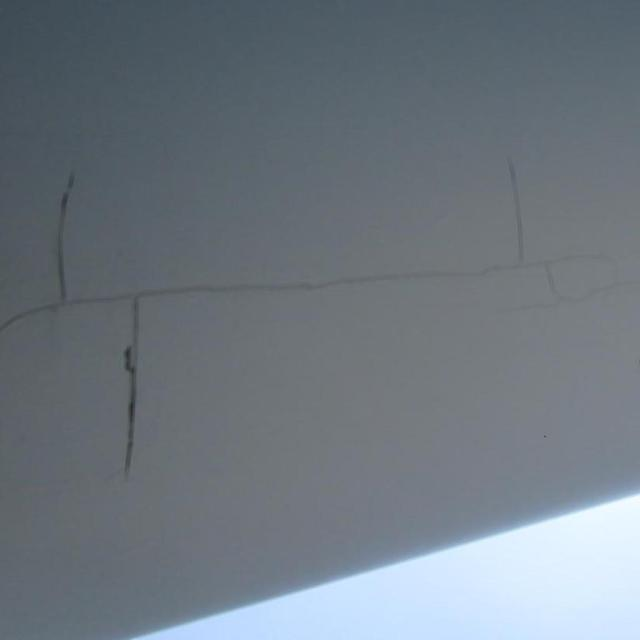crack: (5, 257, 573, 327), (503, 160, 535, 261), (52, 175, 78, 298), (124, 296, 140, 475)
